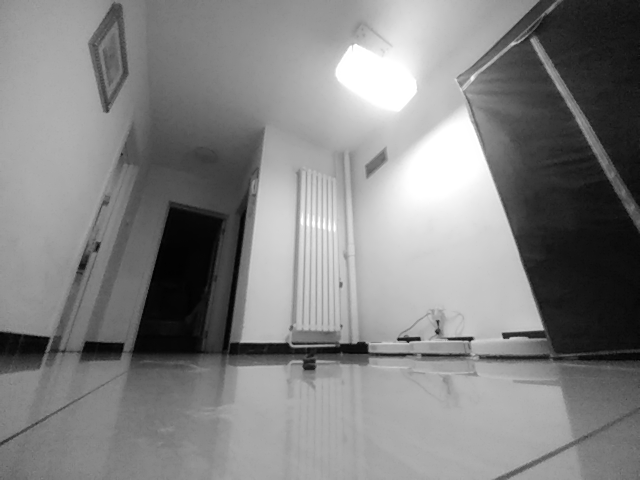pet feces: (302, 351, 318, 373)
